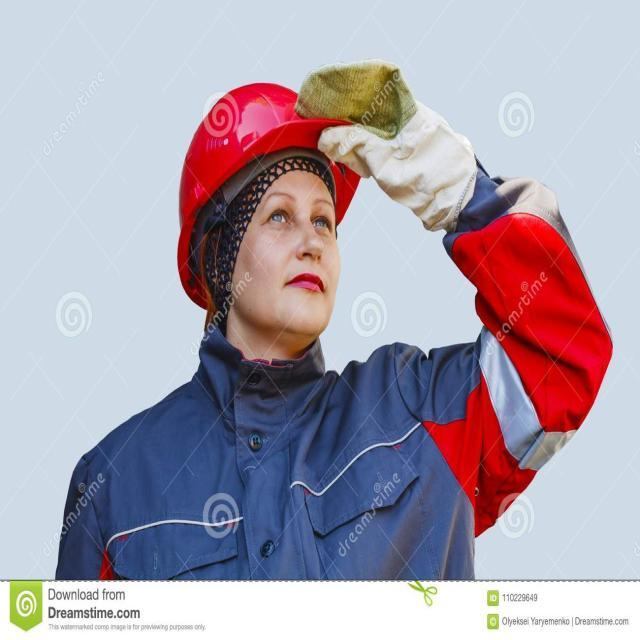helmet: (140, 77, 367, 253)
